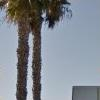Tree: (5, 0, 72, 38)
